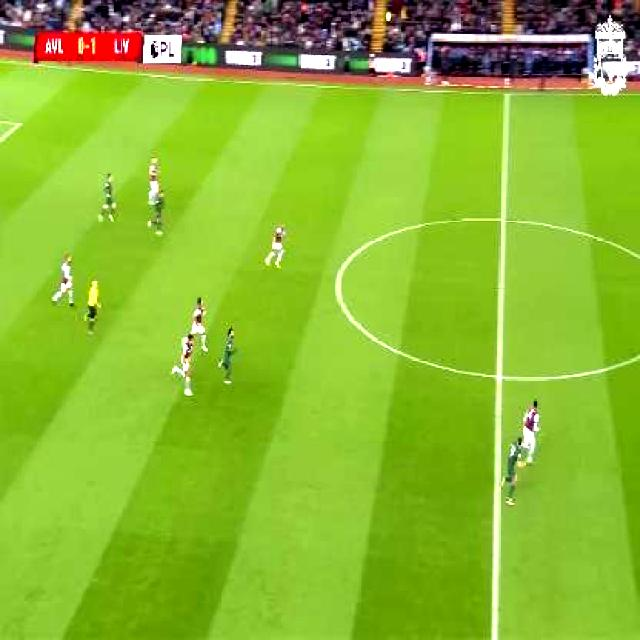bigarea_top_inner: (9, 112, 26, 136)
halfcircle_bottom: (485, 356, 512, 396)
halfcircle_top: (488, 200, 517, 237)
midline_top_intersection: (494, 75, 520, 111), (497, 82, 517, 106)
